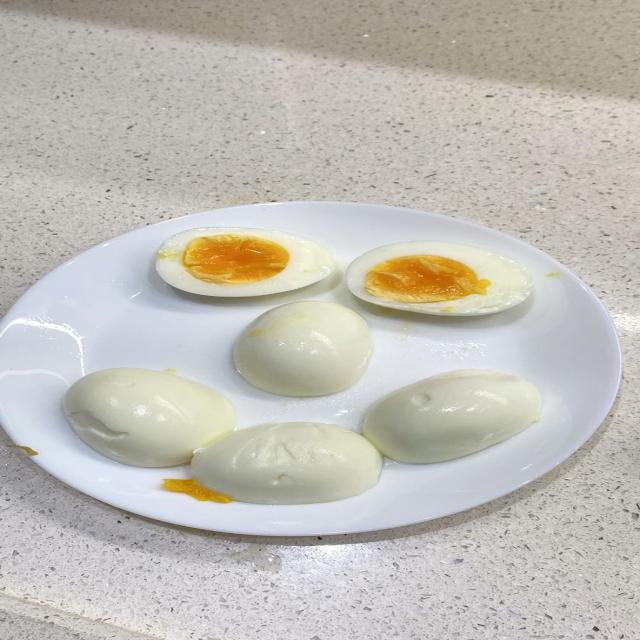egg boiled: (64, 368, 234, 466), (363, 370, 542, 463), (192, 423, 382, 504), (347, 242, 532, 315), (234, 301, 371, 396), (156, 228, 334, 297)
